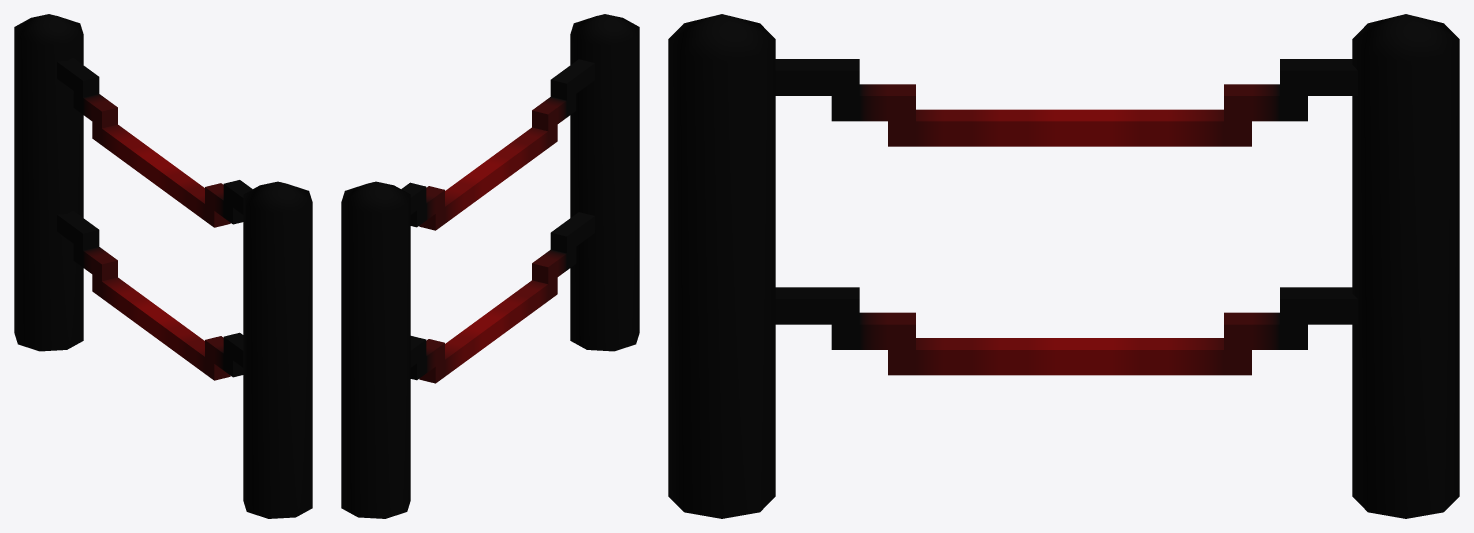
The model's file is Co_BPI_Fence_Rope_A_100.gltf.
3 renders of one model, left to right at view 1: azimuth 30°, elevation 25°; view 2: azimuth 150°, elevation 25°; view 3: azimuth 270°, elevation 25°, orthographic. The views are drawn at different scales.
Visible parts, largest first — view 1: Co_BPI_Fence_Rope_A_100; view 2: Co_BPI_Fence_Rope_A_100; view 3: Co_BPI_Fence_Rope_A_100.
Part boxes in pixels (x1,y1,x2,y2): Co_BPI_Fence_Rope_A_100: (14,14,312,518); Co_BPI_Fence_Rope_A_100: (341,14,639,518); Co_BPI_Fence_Rope_A_100: (668,14,1459,518).
Size of the model in its own units: 0.24 by 1.19 by 1.77.
